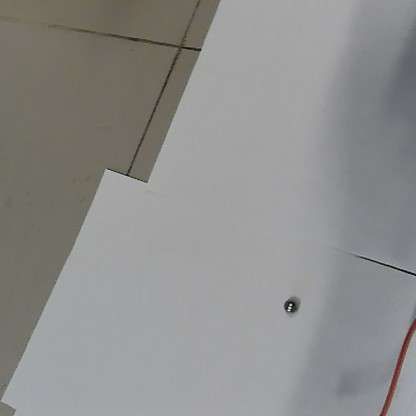ironball: (282, 298, 296, 314)
